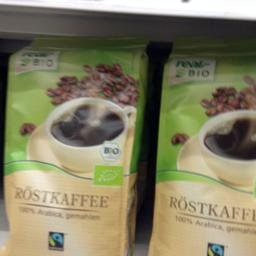coffee: (2, 33, 150, 255), (142, 34, 255, 254)
